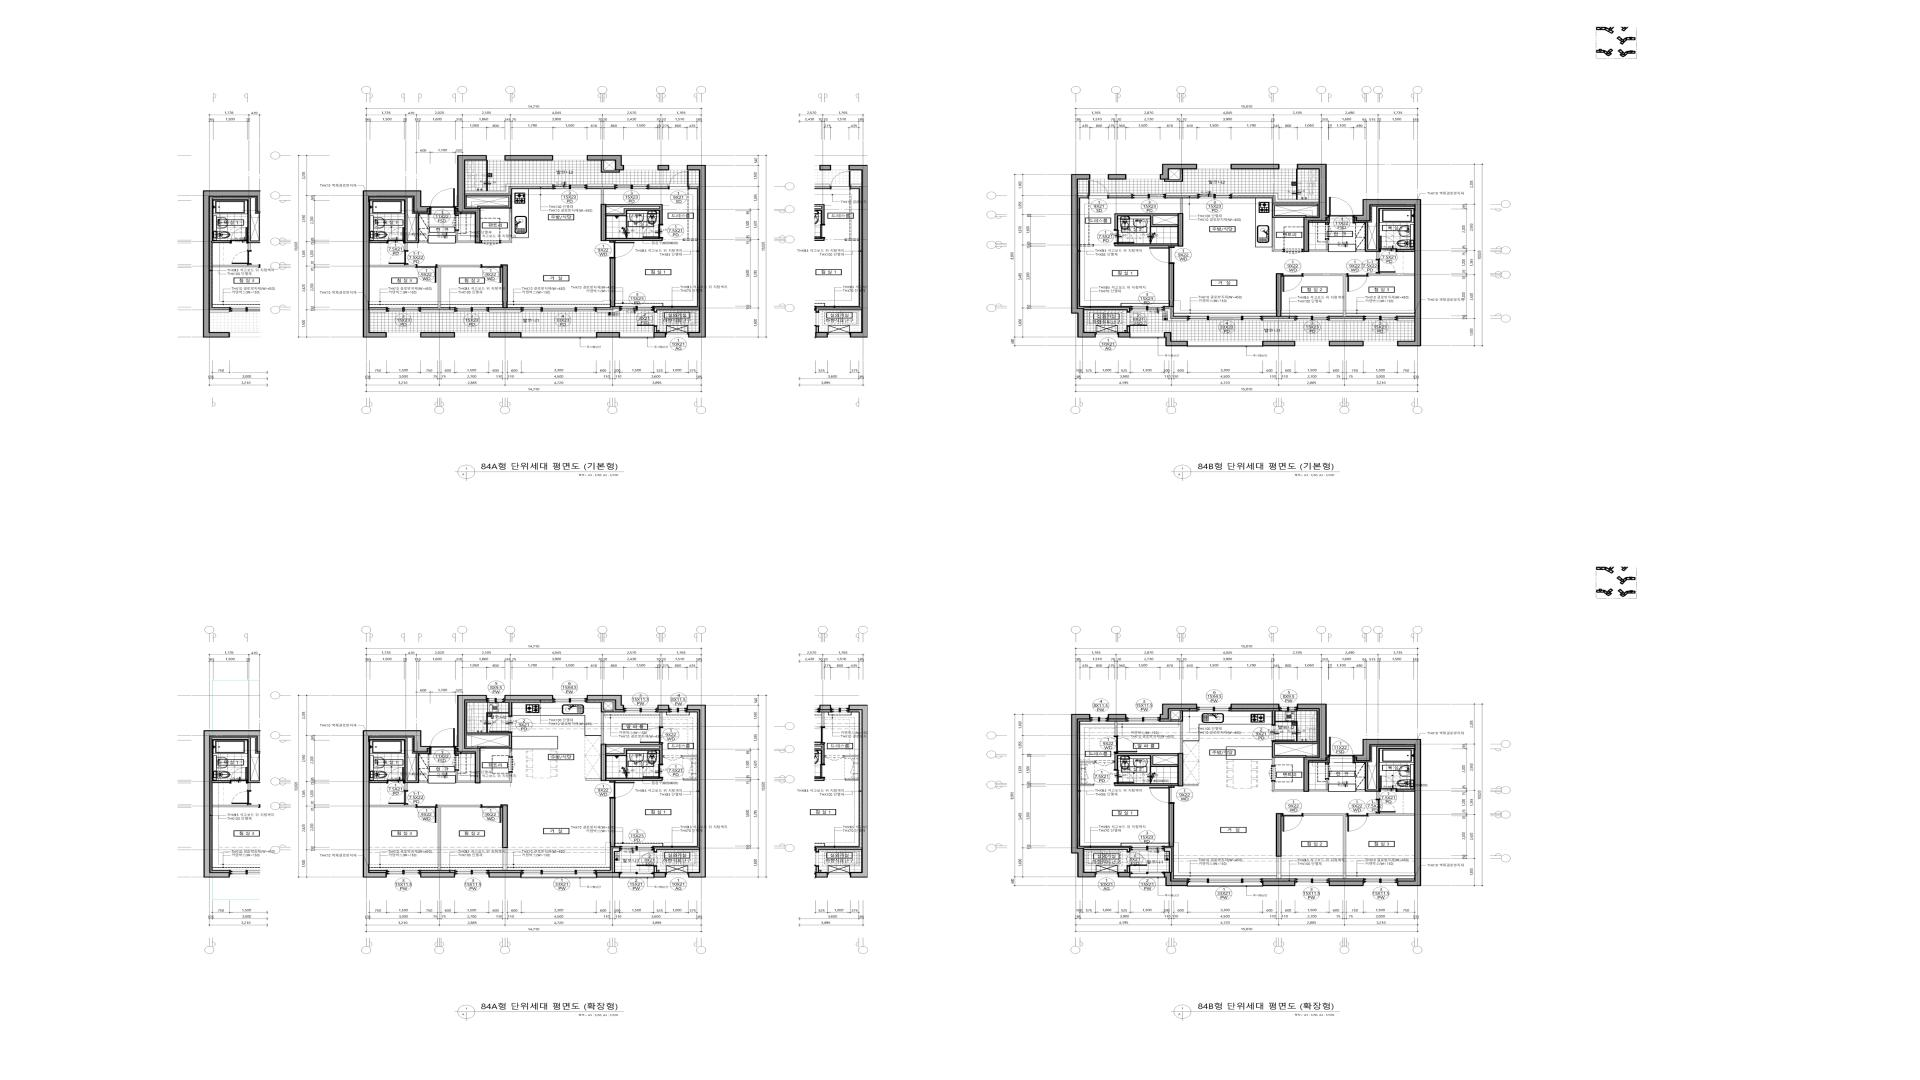door: (430, 728, 455, 754), (430, 189, 455, 215), (1329, 196, 1354, 218), (1329, 737, 1353, 757), (1150, 786, 1175, 804), (609, 781, 634, 799), (415, 264, 438, 284), (1150, 247, 1175, 264), (609, 241, 634, 258), (481, 264, 502, 284), (415, 804, 438, 823), (640, 727, 663, 744), (489, 716, 513, 733), (1346, 273, 1367, 291), (1282, 273, 1303, 291), (1088, 181, 1109, 199), (481, 804, 502, 823), (1346, 814, 1367, 832), (1282, 814, 1303, 832), (669, 171, 690, 190), (1114, 736, 1137, 753), (1271, 725, 1295, 741), (1379, 775, 1398, 793), (388, 790, 409, 804), (1126, 852, 1147, 866), (642, 764, 663, 778), (386, 227, 404, 244), (1375, 260, 1395, 274), (1114, 229, 1134, 244), (1114, 769, 1134, 783), (1375, 799, 1395, 814), (389, 251, 409, 265), (642, 224, 663, 237), (1379, 236, 1396, 252), (386, 767, 404, 783), (1283, 249, 1304, 255), (480, 240, 500, 245), (1325, 764, 1332, 779), (509, 757, 516, 773), (1096, 761, 1114, 766), (663, 756, 682, 761), (1269, 766, 1275, 781)
wall: (363, 190, 430, 338), (1354, 738, 1422, 886), (363, 731, 430, 878), (1354, 199, 1422, 347), (1071, 713, 1096, 877), (1071, 174, 1096, 338), (687, 704, 705, 878), (687, 165, 705, 338), (1357, 746, 1415, 799), (369, 737, 427, 790), (369, 198, 427, 251), (1303, 814, 1346, 878), (455, 156, 487, 244), (1298, 704, 1329, 793), (455, 695, 487, 783), (1298, 164, 1329, 252), (438, 804, 480, 870), (1357, 207, 1415, 252), (465, 195, 512, 243), (1273, 204, 1317, 252), (1303, 274, 1346, 316), (438, 265, 481, 307), (1273, 741, 1317, 766), (607, 744, 663, 764), (607, 204, 663, 224), (467, 733, 512, 757), (1114, 214, 1178, 229), (1114, 753, 1178, 769), (465, 183, 553, 194), (1232, 193, 1319, 202), (1160, 704, 1197, 720), (587, 695, 624, 711), (1160, 164, 1197, 179), (587, 156, 624, 170), (601, 702, 613, 744), (1171, 711, 1183, 753), (1164, 872, 1188, 886), (1164, 332, 1188, 347), (480, 773, 512, 783), (1273, 781, 1303, 791), (609, 258, 616, 306), (609, 799, 616, 847), (1164, 309, 1187, 322), (1168, 264, 1175, 307), (1168, 804, 1175, 847), (455, 770, 475, 783), (1230, 704, 1279, 709), (1230, 164, 1279, 169), (505, 156, 553, 161), (505, 695, 553, 700), (1164, 169, 1183, 182), (600, 744, 607, 781), (600, 204, 607, 241), (455, 231, 475, 243), (1276, 814, 1282, 857), (502, 804, 508, 848), (1276, 273, 1282, 316), (421, 872, 455, 878), (607, 237, 663, 241), (502, 265, 508, 307), (1309, 240, 1328, 252), (1309, 779, 1328, 791), (601, 161, 620, 173), (488, 872, 521, 878), (612, 848, 620, 872), (1164, 848, 1172, 872), (1084, 307, 1130, 311), (1084, 848, 1130, 852), (421, 332, 455, 338), (1329, 881, 1364, 886), (1329, 342, 1364, 347), (654, 848, 699, 852), (654, 307, 699, 311), (488, 332, 521, 338), (1178, 753, 1183, 786), (1262, 881, 1295, 886), (1262, 342, 1295, 347), (1178, 214, 1183, 247), (1114, 244, 1178, 247), (1114, 783, 1178, 786), (596, 872, 620, 878), (607, 778, 662, 781), (1367, 814, 1415, 816), (596, 332, 620, 338), (369, 804, 415, 807), (1108, 713, 1126, 720), (369, 265, 415, 268), (502, 848, 508, 870), (1276, 857, 1282, 878), (1108, 174, 1126, 179), (596, 309, 620, 313), (1329, 319, 1364, 322), (421, 310, 455, 313), (1263, 319, 1295, 322), (1166, 193, 1197, 195), (489, 310, 521, 313), (654, 872, 666, 878), (587, 183, 615, 186), (658, 704, 669, 711), (1367, 274, 1415, 276), (1118, 872, 1130, 877), (1118, 332, 1130, 338), (654, 332, 666, 338), (1109, 193, 1131, 195), (658, 165, 669, 170), (649, 183, 669, 186), (1398, 319, 1415, 322), (1398, 249, 1415, 252), (1398, 789, 1415, 791), (369, 781, 386, 783), (369, 310, 386, 313), (369, 240, 386, 243), (601, 189, 604, 204), (659, 712, 662, 727), (1273, 711, 1275, 725), (1114, 721, 1117, 736), (509, 702, 512, 716), (1079, 193, 1088, 196), (1126, 326, 1130, 332), (690, 183, 699, 186), (1377, 252, 1379, 260), (682, 756, 698, 757), (1126, 866, 1130, 872), (683, 779, 698, 781), (585, 779, 600, 781), (1080, 761, 1095, 762), (1080, 785, 1093, 786), (654, 866, 657, 872), (654, 327, 657, 332), (1325, 762, 1329, 764), (455, 214, 458, 215), (1327, 223, 1328, 224)
window: (521, 870, 596, 878), (521, 332, 596, 339), (1187, 315, 1263, 320), (521, 307, 596, 313), (1188, 342, 1262, 347), (1188, 878, 1262, 884), (1188, 884, 1262, 887), (1364, 878, 1398, 886), (1295, 878, 1329, 886), (553, 695, 587, 703), (1197, 704, 1230, 712), (620, 332, 654, 339), (1130, 332, 1164, 339), (1126, 715, 1160, 721), (1130, 872, 1164, 878), (620, 872, 654, 878), (386, 870, 421, 877), (624, 705, 658, 712), (455, 870, 488, 877), (615, 185, 649, 190), (553, 185, 587, 190), (620, 306, 654, 311), (455, 307, 489, 313), (386, 307, 421, 313), (386, 332, 421, 338), (624, 165, 658, 170), (1130, 306, 1164, 311), (1197, 194, 1232, 199), (1131, 194, 1166, 199), (1126, 174, 1160, 179), (1130, 845, 1164, 851), (620, 845, 654, 851), (1364, 315, 1398, 320), (1295, 315, 1329, 320), (455, 332, 488, 338), (1279, 704, 1298, 712), (487, 695, 505, 703), (1295, 342, 1329, 345), (1364, 342, 1398, 345), (554, 156, 587, 160), (1197, 165, 1230, 169), (669, 705, 687, 712), (666, 332, 688, 338), (1096, 332, 1118, 338), (1096, 872, 1118, 877), (1091, 715, 1108, 721), (670, 165, 687, 170), (1091, 174, 1108, 179), (666, 873, 688, 877), (487, 156, 505, 160), (1279, 165, 1298, 169)
